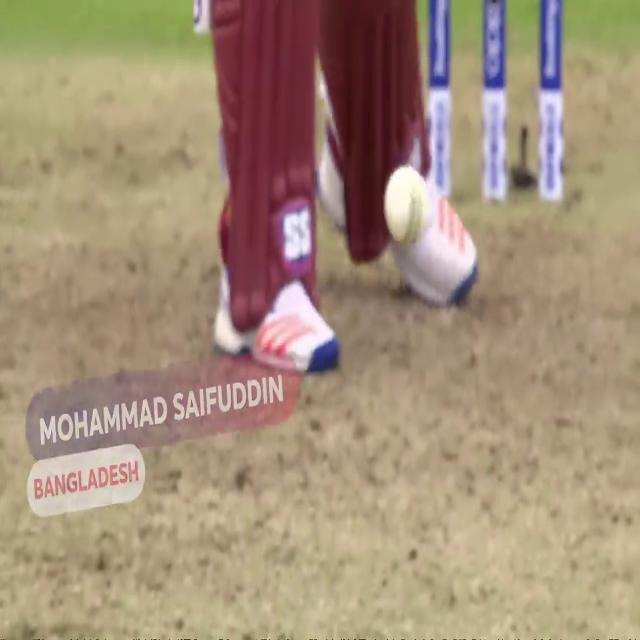ball: (379, 159, 429, 249)
